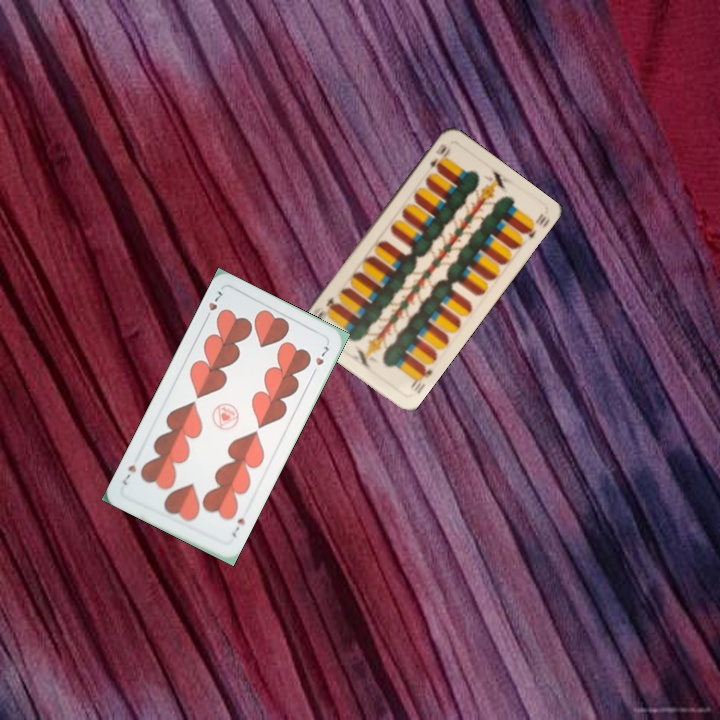E10: (406, 361, 435, 396), (426, 139, 453, 171)
H7: (201, 286, 226, 323), (228, 514, 248, 540)
